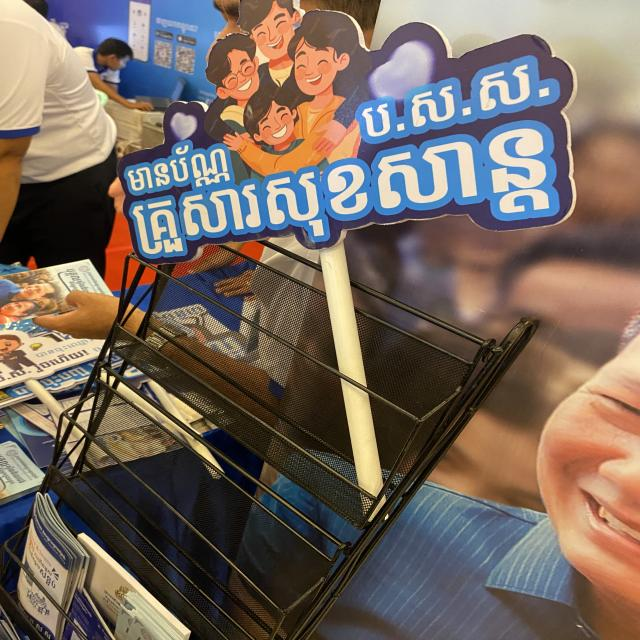Yolov11_80vkh: (128, 112, 569, 265), (350, 49, 557, 147), (117, 129, 246, 201)
